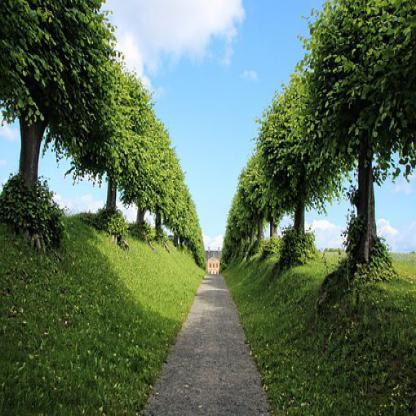Tree: (313, 0, 415, 273), (0, 0, 110, 239), (268, 46, 338, 268), (77, 48, 142, 252), (245, 123, 296, 262), (122, 95, 162, 257), (150, 137, 178, 262), (237, 163, 270, 262), (168, 180, 191, 258), (232, 190, 252, 262), (226, 206, 247, 269), (187, 210, 203, 267), (223, 220, 242, 261), (221, 232, 236, 270)
